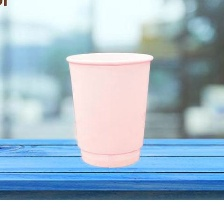paper_cup: (60, 46, 157, 171)
